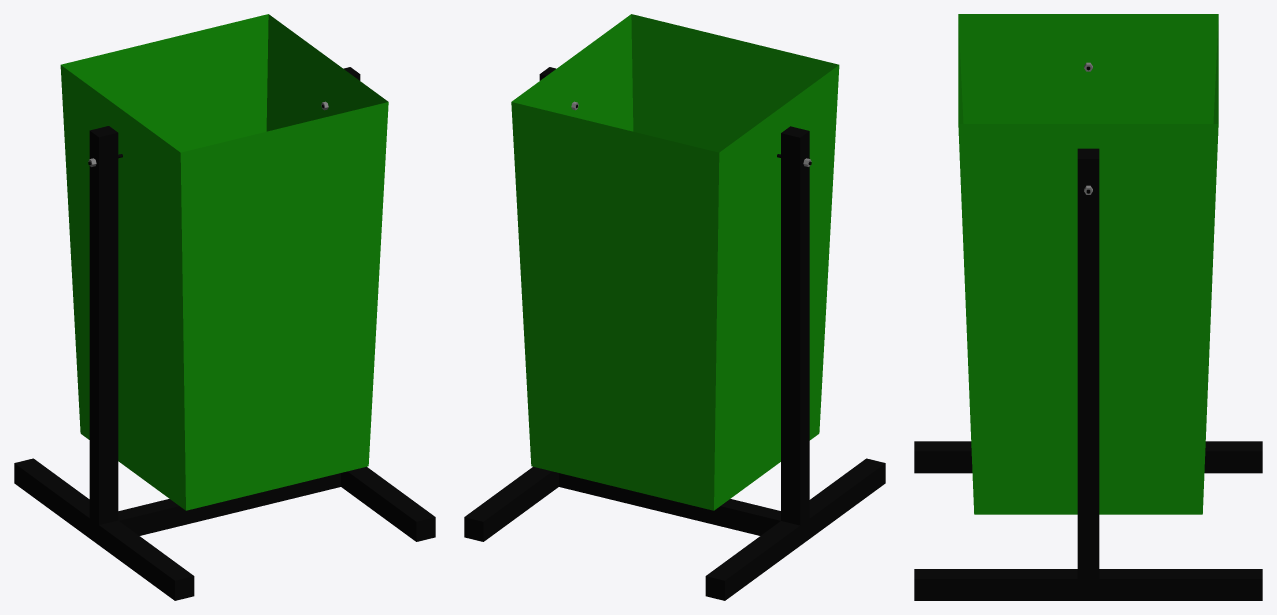
File: Thash_Bin.fbx
3 renders of one model, left to right at view 1: azimuth 30°, elevation 25°; view 2: azimuth 150°, elevation 25°; view 3: azimuth 270°, elevation 25°, orthographic. The views are drawn at different scales.
Visible parts, largest first — view 1: Куб.002, Куб; view 2: Куб.002, Куб; view 3: Куб.002, Куб.
Boxes of the visible parts, left/top/right/bottom form: Куб.002: left=60, top=14, right=388, bottom=510; Куб: left=14, top=67, right=435, bottom=600; Куб.002: left=511, top=14, right=839, bottom=510; Куб: left=464, top=67, right=885, bottom=600; Куб.002: left=958, top=14, right=1218, bottom=514; Куб: left=914, top=148, right=1262, bottom=600.
Size of the model in its own units: 331 by 497 by 339.
